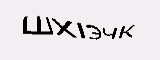І: (74, 19, 86, 45)
К: (118, 21, 139, 41)
Х: (52, 14, 78, 43)
Ч: (102, 20, 119, 44)
Ш: (20, 13, 55, 38)
Э: (86, 23, 103, 43)
